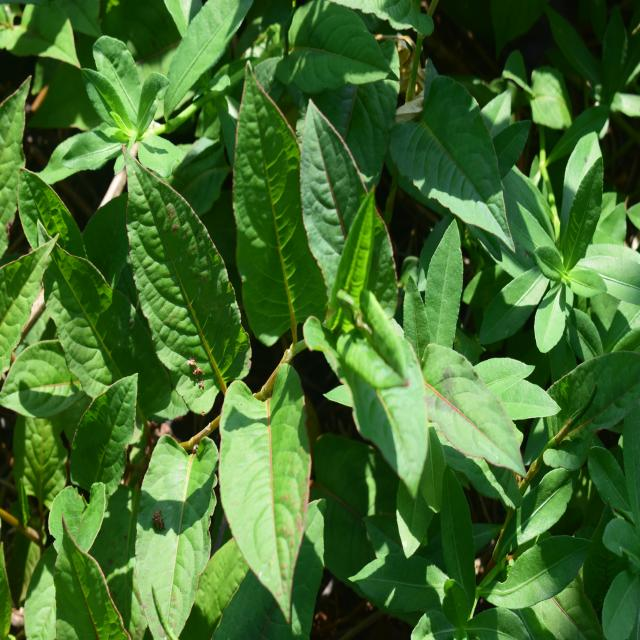Chinese_knotweed: (131, 102, 443, 571)
